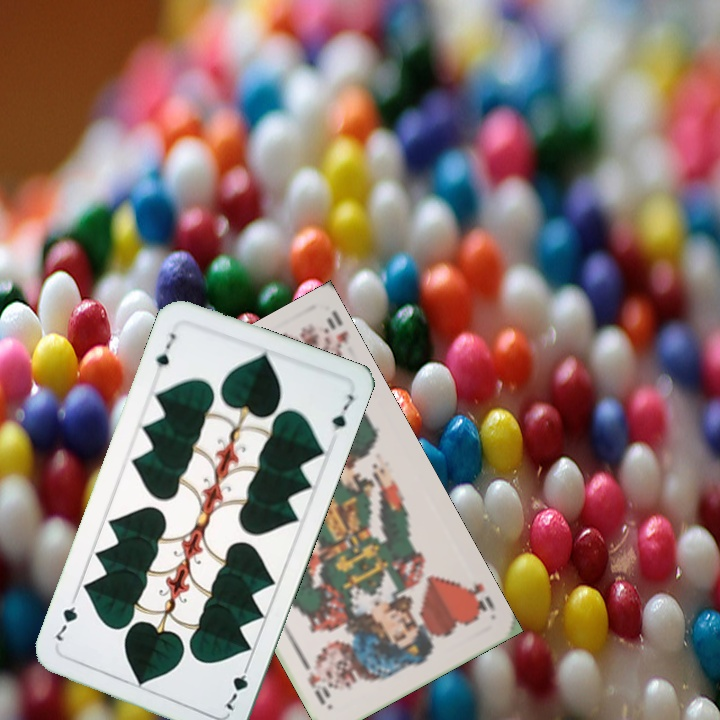G7: (217, 658, 253, 713), (152, 329, 179, 370)
HO: (459, 579, 498, 622)
